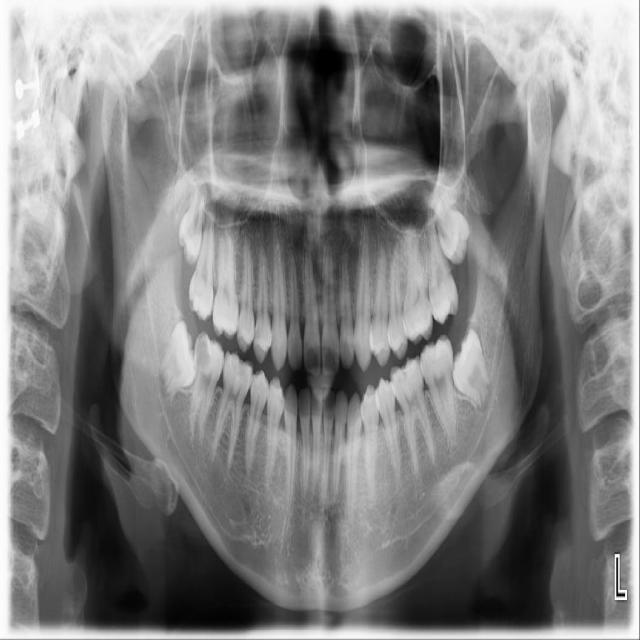Caries: (195, 334, 210, 370)
